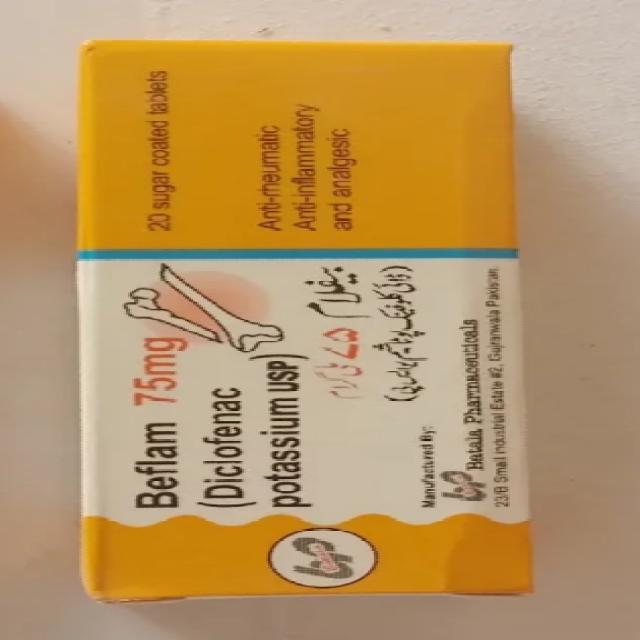drug-name: (121, 420, 190, 512)
